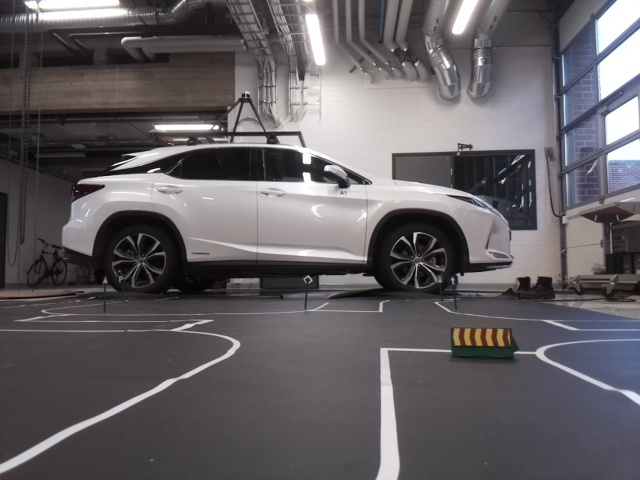ClosedRoadStand: (448, 325, 512, 351)
